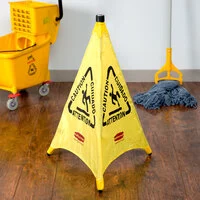wet caution sign: (55, 10, 148, 190)
